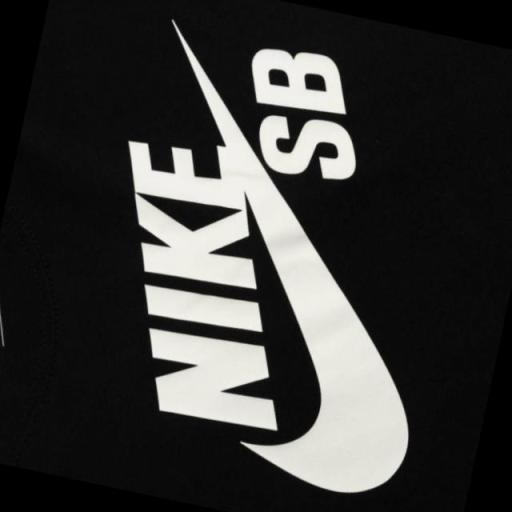Nike: (168, 127, 470, 508), (77, 133, 332, 434)
